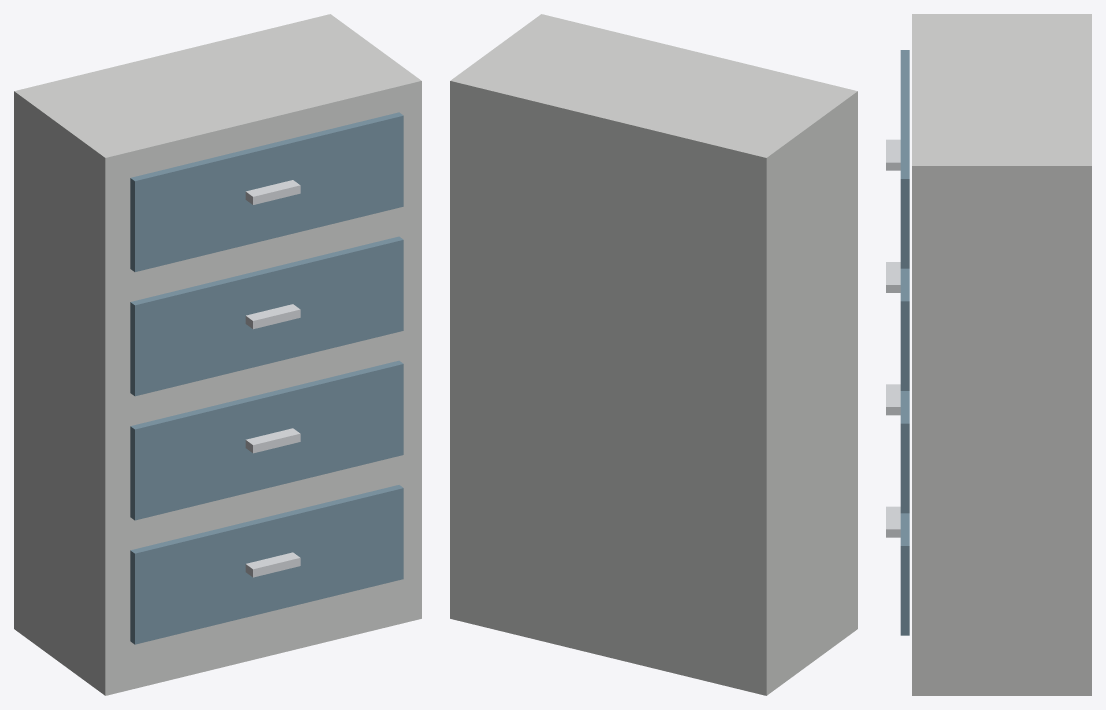
File: road-car-showroom-lineup-brochure-cabinet-015367d0__15158.glb
The picture shows the model from 3 angles, left to right: view 1: azimuth 30°, elevation 25°; view 2: azimuth 150°, elevation 25°; view 3: azimuth 270°, elevation 25°; orthographic projection.
Parts seen in each view (by area): view 1: brochure-cabinet; view 2: brochure-cabinet; view 3: brochure-cabinet.
Part boxes in pixels (left/top/right/bottom): brochure-cabinet: left=14, top=14, right=421, bottom=695; brochure-cabinet: left=450, top=14, right=857, bottom=695; brochure-cabinet: left=886, top=14, right=1091, bottom=695.
Size of the model in its own units: 0.8001 by 1.3 by 0.4575.
